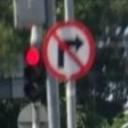NoVirarDireita: (42, 22, 94, 81)
